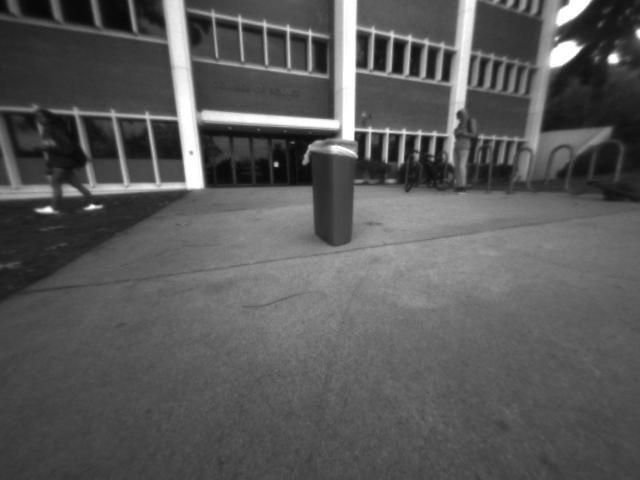trashcan: (304, 135, 363, 250)
